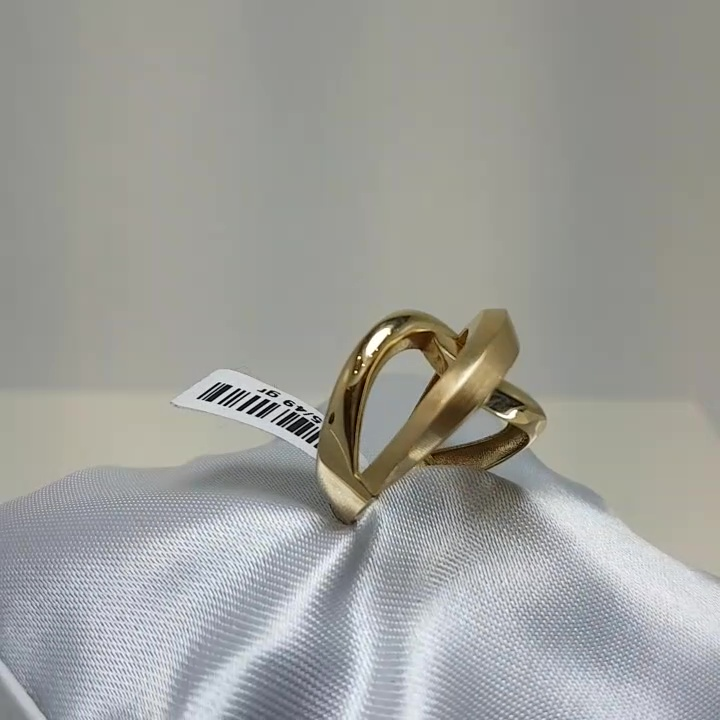Ring 3: (301, 289, 553, 527)
